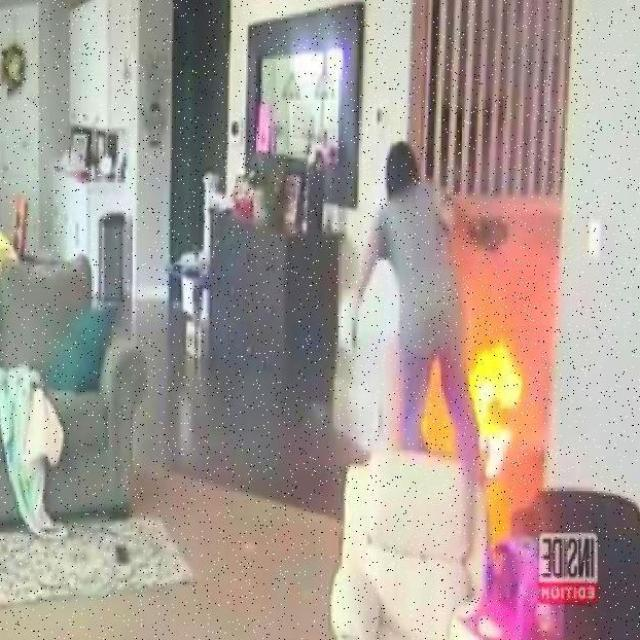smoke: (454, 338, 526, 481)
